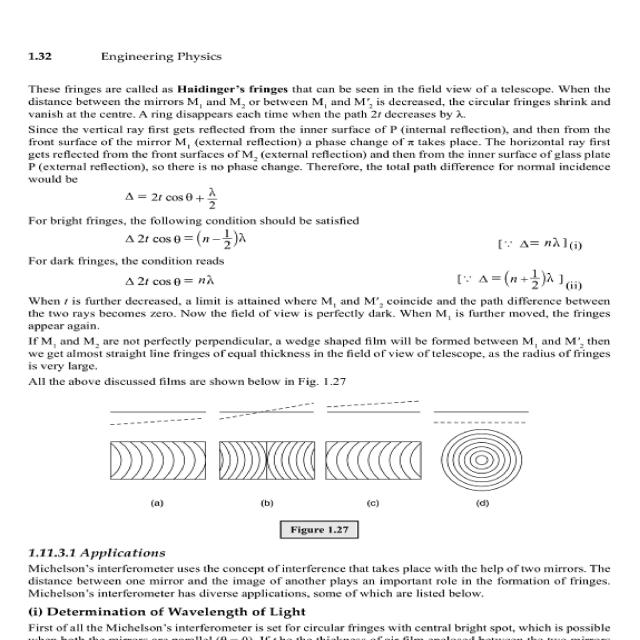diagram: (76, 396, 640, 536)
